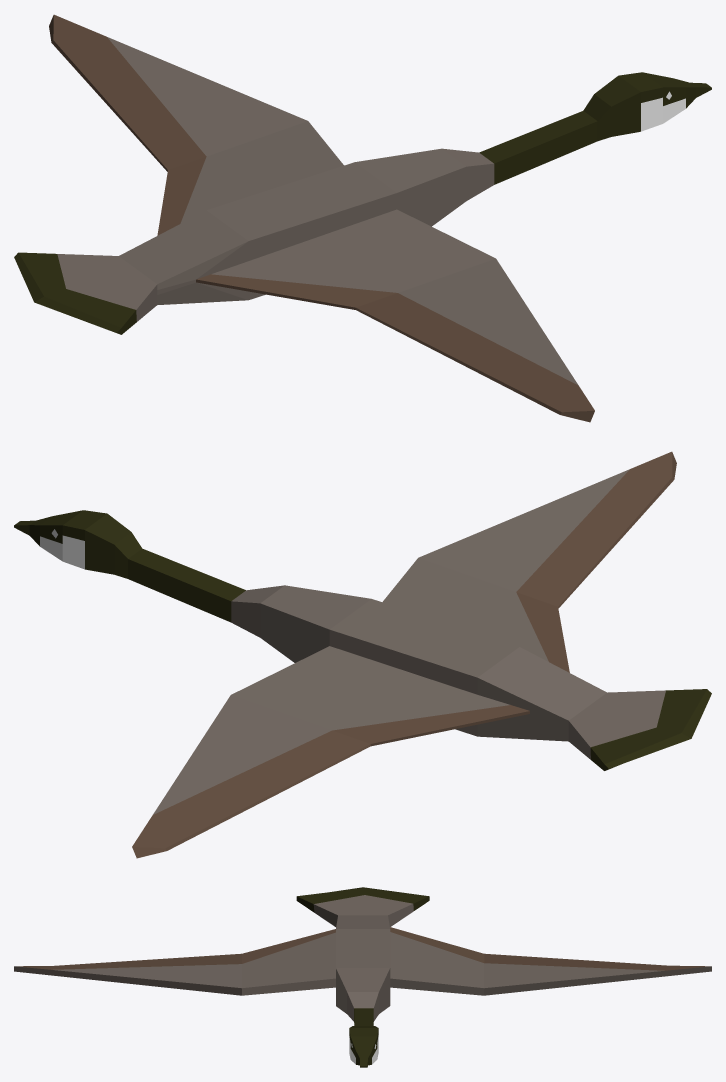
The model's file is Bird03.glb.
3 views of the same model, one above another, from view 1: azimuth 30°, elevation 25°; view 2: azimuth 150°, elevation 25°; view 3: azimuth 270°, elevation 25° (orthographic). The views are drawn at different scales.
Parts seen in each view (by area): view 1: Cube; view 2: Cube; view 3: Cube.
Boxes of the visible parts, bbox=[...] form: Cube: bbox=[14, 14, 711, 422]; Cube: bbox=[14, 451, 711, 858]; Cube: bbox=[14, 887, 711, 1067].
Bounding box in the file's own units: 18.5 × 2.67 × 25.68.
